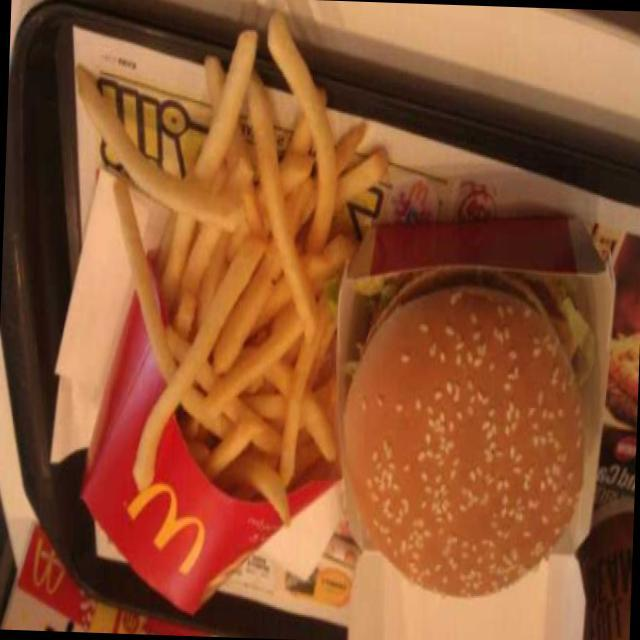French Fries: (122, 48, 364, 506)
Hamburger: (332, 222, 605, 610)
